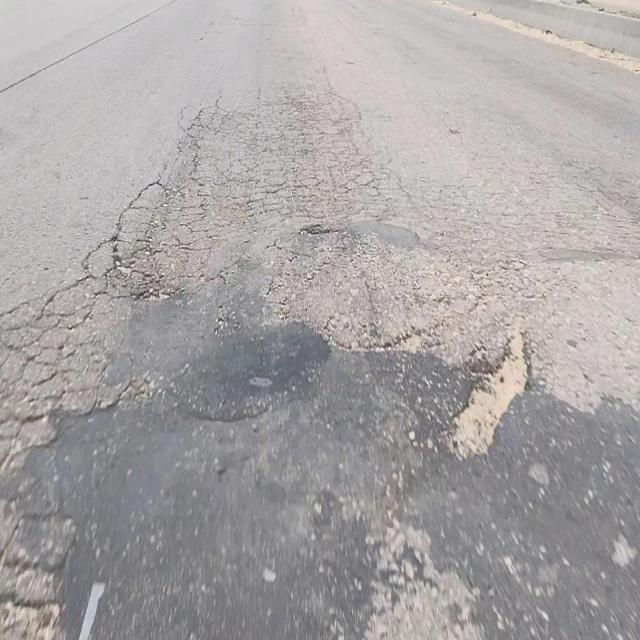Potholes: (444, 323, 535, 466)
